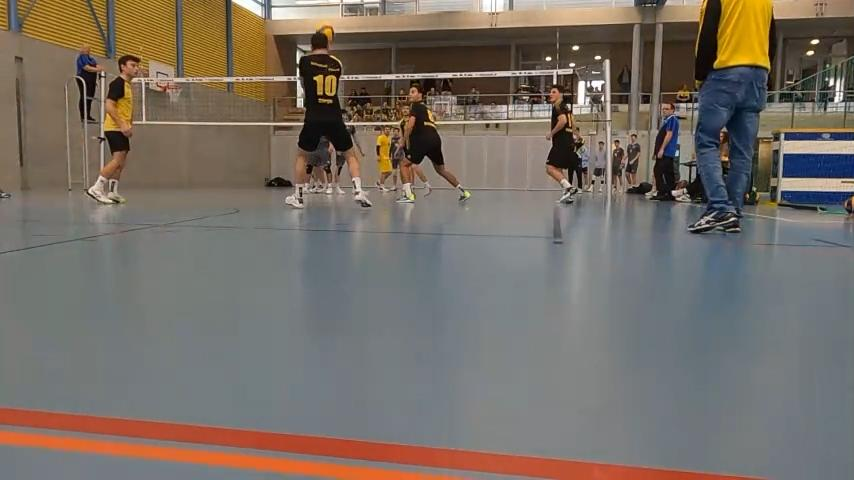ricezione: (292, 34, 374, 209)
